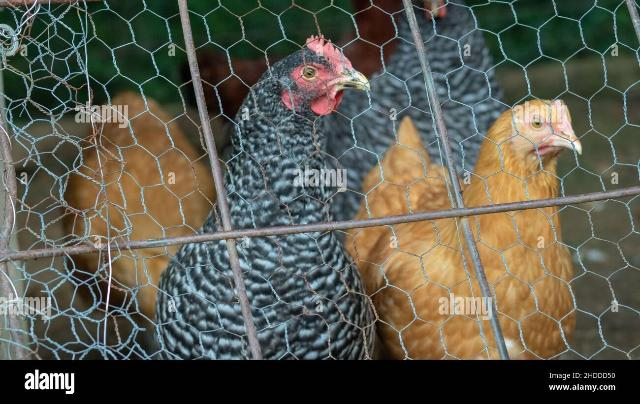Chicken: (157, 35, 377, 362), (348, 99, 582, 358), (323, 0, 506, 221), (69, 92, 218, 315)
